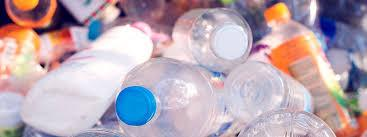Plastic bottle: (255, 0, 342, 130), (224, 65, 334, 137), (118, 63, 218, 137), (171, 6, 249, 64)
